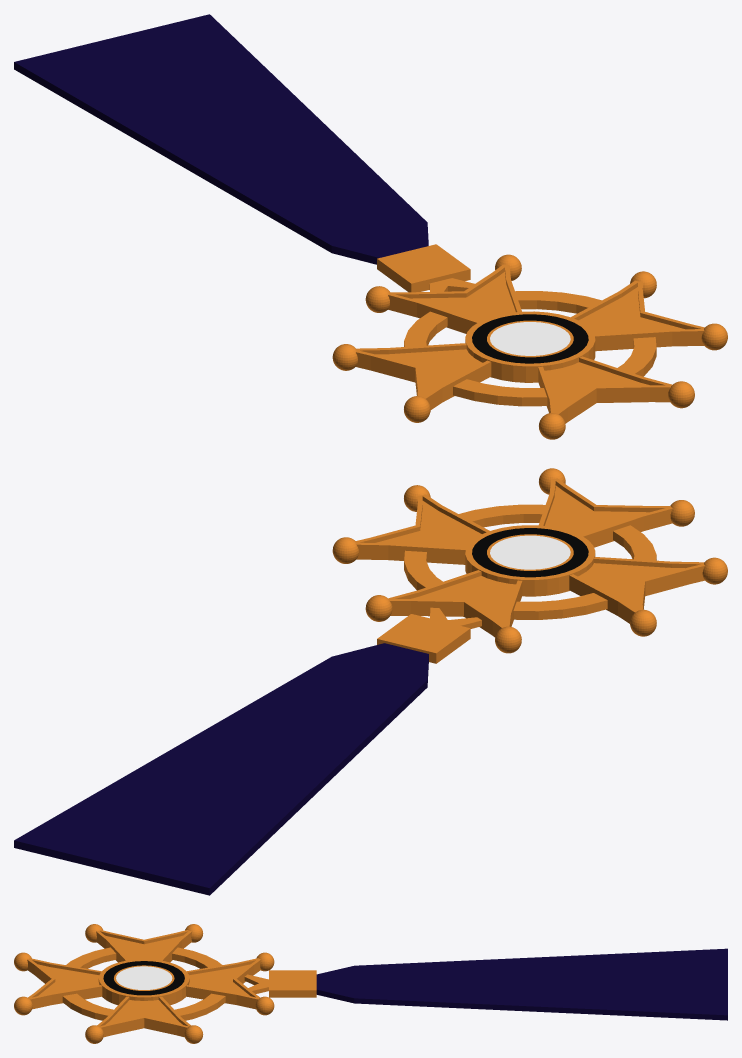
3 renders of one model, top to bottom at view 1: azimuth 30°, elevation 25°; view 2: azimuth 150°, elevation 25°; view 3: azimuth 270°, elevation 25°, orthographic. The views are drawn at different scales.
Visible parts, largest first — view 1: Cylinder; view 2: Cylinder; view 3: Cylinder.
Boxes of the visible parts, x1,y1,x2,y2 form: Cylinder: [14, 14, 727, 439]; Cylinder: [14, 468, 727, 895]; Cylinder: [14, 924, 727, 1043].
Bounding box in the file's own units: 669 × 48.74 × 1850.
